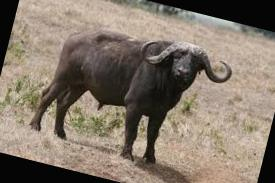Buffalo: (27, 0, 261, 183)
